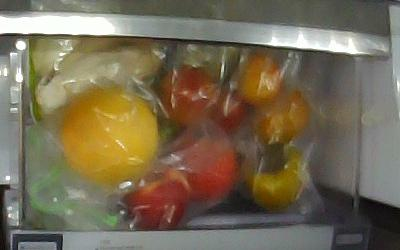apple_vinyl: (162, 126, 235, 200), (120, 165, 189, 231)
grapefruit_vinyl: (62, 88, 159, 186)
persimmon_vinyl: (243, 141, 308, 206)
prune_vinyl: (251, 90, 309, 144), (162, 69, 217, 124), (227, 55, 284, 103), (212, 88, 249, 134)
